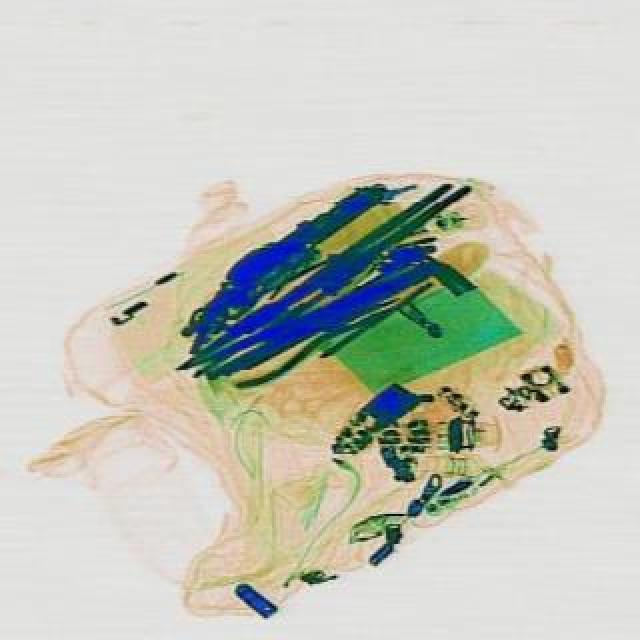wrench: (210, 276, 406, 392)
